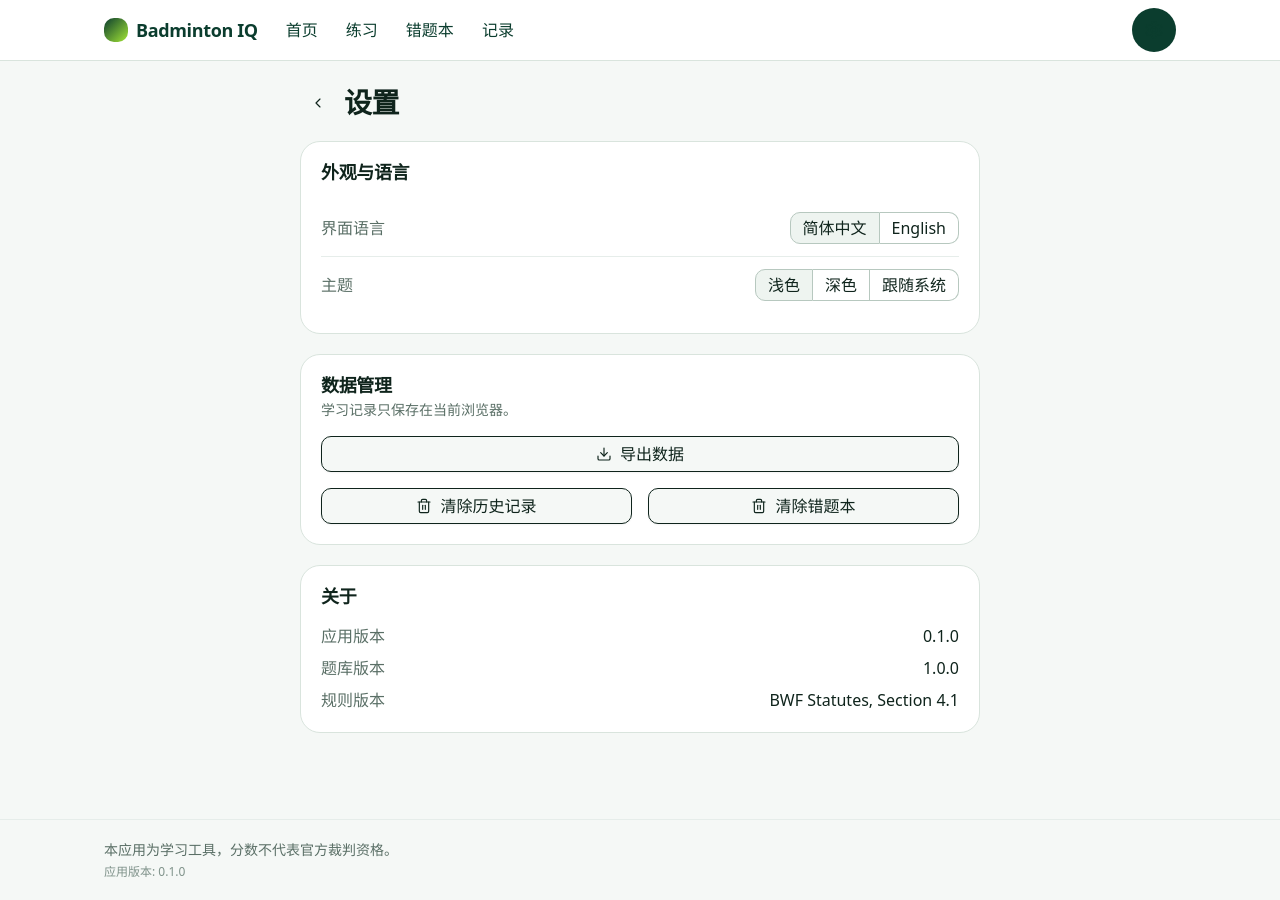
Test case: routing › switches the interface language on the settings page
The image size is (1280, 900).
Click the radio button labelled "English" at (919,228), box x1=880 y1=212 x2=959 y2=244
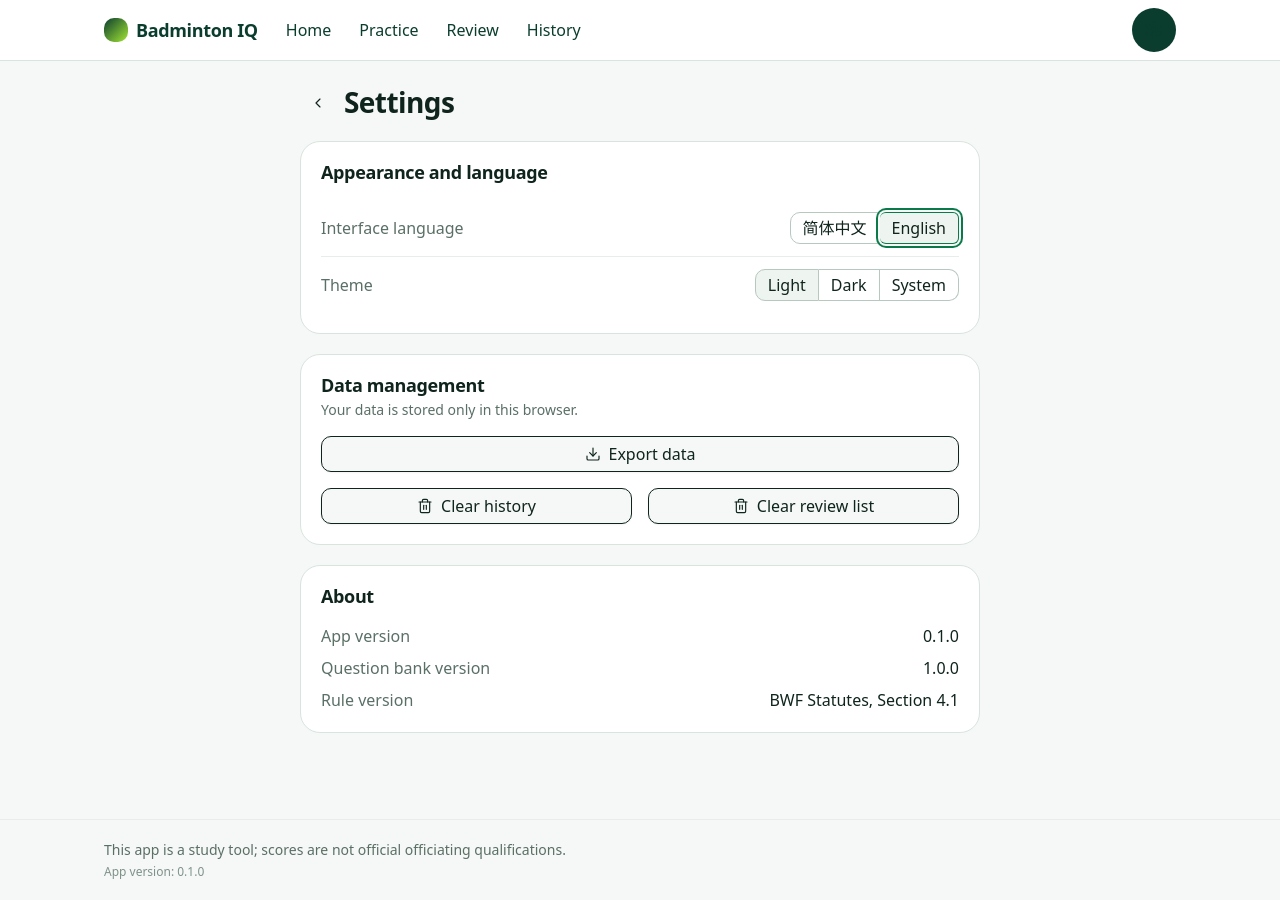
Check: the heading "Settings" is shown, box x1=344 y1=86 x2=454 y2=120
